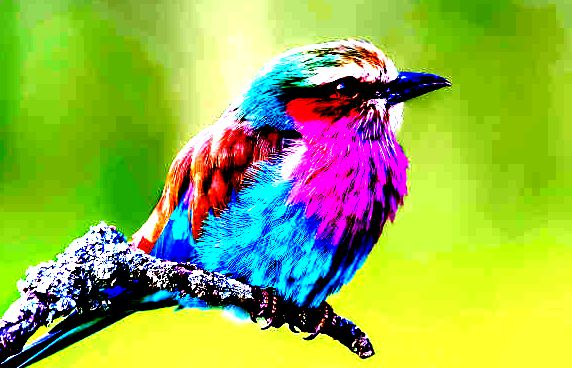Bird: (18, 36, 457, 342)
